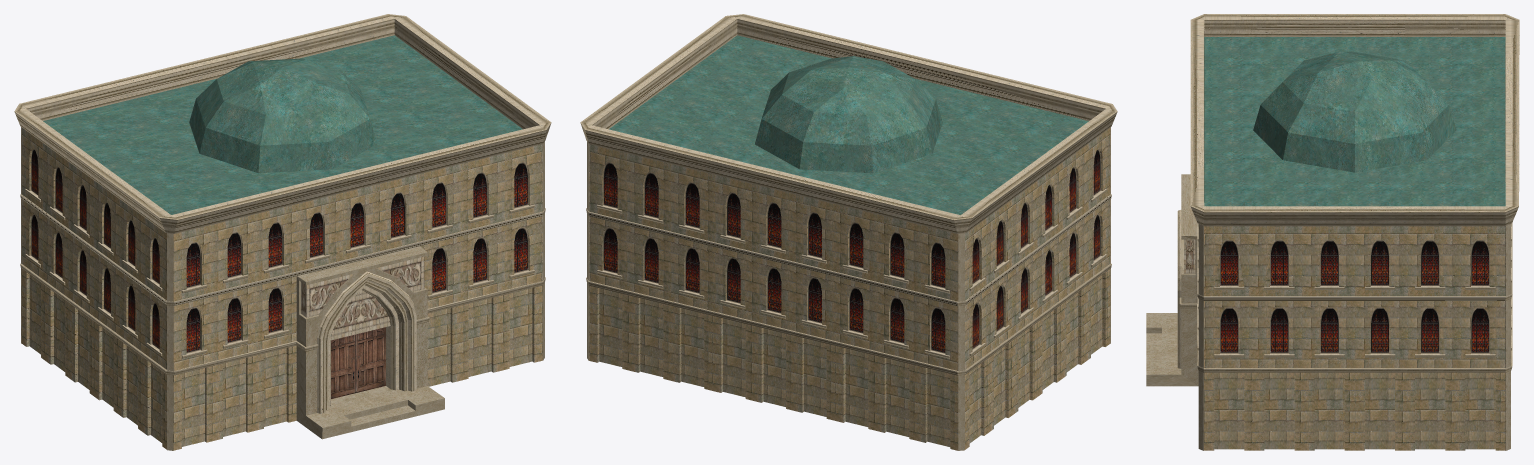
File: ply_nboo_house_m_s02_fp1_l0.fbx
3 renders of one model, left to right at view 1: azimuth 30°, elevation 25°; view 2: azimuth 150°, elevation 25°; view 3: azimuth 270°, elevation 25°, orthographic. The views are drawn at different scales.
Parts seen in each view (by area): view 1: mesh_node; view 2: mesh_node; view 3: mesh_node.
Boxes of the visible parts, x1,y1,x2,y2 form: mesh_node: [14, 14, 551, 450]; mesh_node: [580, 14, 1117, 450]; mesh_node: [1146, 14, 1519, 450].
Size of the model in its own units: 18.29 by 12.65 by 14.55.
